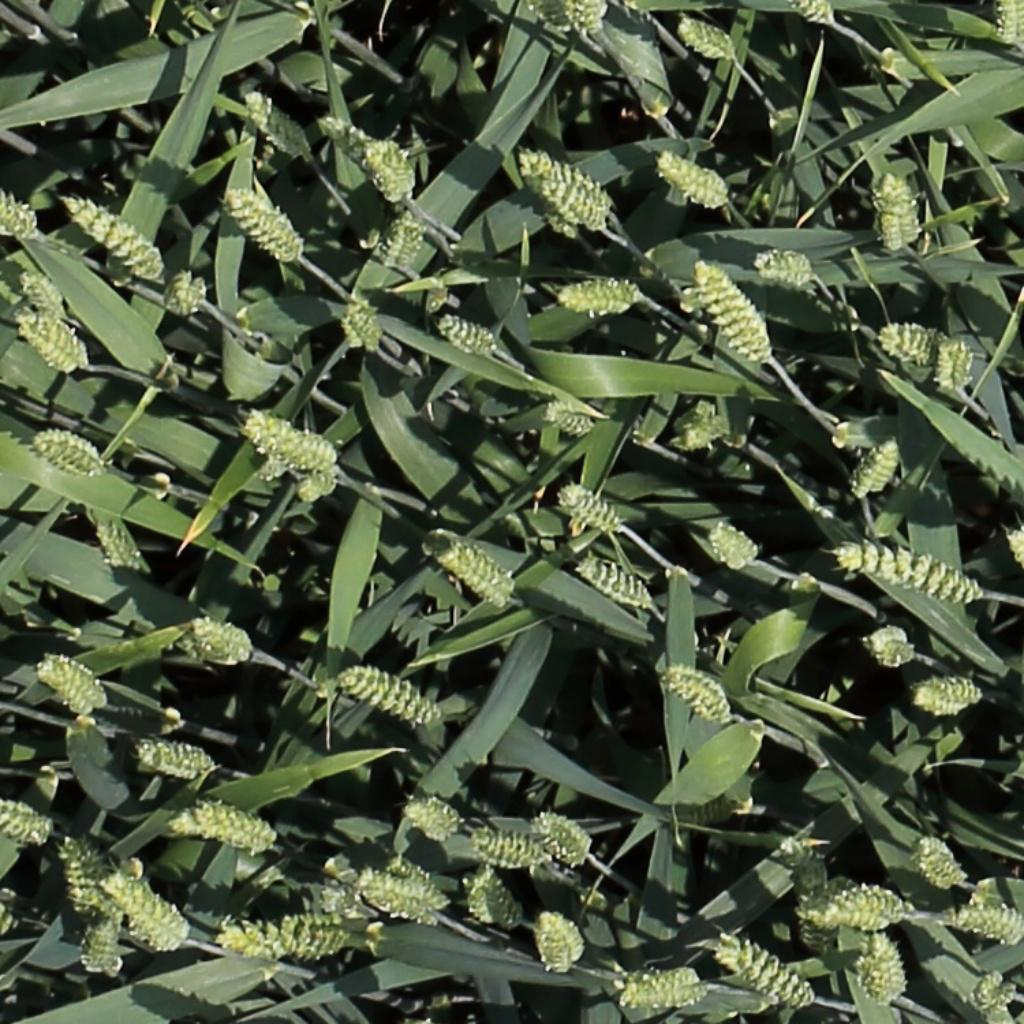0-0: (61, 191, 165, 278), (694, 259, 775, 360), (841, 546, 984, 603), (716, 933, 817, 1007), (802, 865, 924, 925), (239, 407, 339, 475), (341, 667, 439, 726), (102, 879, 185, 946), (241, 86, 314, 158), (522, 148, 611, 206), (434, 540, 514, 604), (225, 193, 301, 259), (279, 913, 382, 960), (370, 860, 441, 924), (13, 307, 88, 367), (577, 557, 656, 610), (170, 811, 275, 850), (664, 666, 733, 724), (850, 431, 905, 502), (464, 870, 518, 942), (55, 835, 99, 922), (659, 150, 731, 203), (619, 967, 712, 1008), (537, 179, 602, 235), (561, 278, 645, 321), (913, 666, 985, 716), (668, 789, 746, 834), (38, 660, 102, 714), (944, 896, 1022, 940), (320, 107, 374, 170), (15, 262, 69, 324), (293, 877, 364, 924), (32, 432, 105, 476), (869, 927, 909, 1006), (369, 132, 413, 203), (92, 516, 144, 576), (880, 170, 917, 253), (532, 816, 592, 866), (561, 486, 625, 532), (537, 906, 576, 980), (189, 618, 252, 662), (385, 206, 425, 275), (916, 838, 969, 890), (344, 289, 386, 354), (86, 910, 124, 980), (856, 944, 894, 1014), (882, 319, 942, 363), (221, 919, 287, 959), (292, 468, 354, 510), (679, 16, 738, 60), (759, 245, 822, 285), (471, 835, 551, 866), (438, 314, 499, 354), (709, 522, 760, 569), (936, 333, 973, 397), (136, 746, 215, 775), (969, 966, 1010, 1019), (674, 415, 735, 450), (413, 801, 466, 840), (167, 262, 202, 320), (0, 805, 53, 842), (1, 189, 35, 244), (523, 0, 577, 31), (546, 404, 596, 435), (866, 636, 916, 667), (983, 983, 1018, 1022), (576, 0, 607, 38), (998, 0, 1021, 50), (798, 0, 839, 27)
